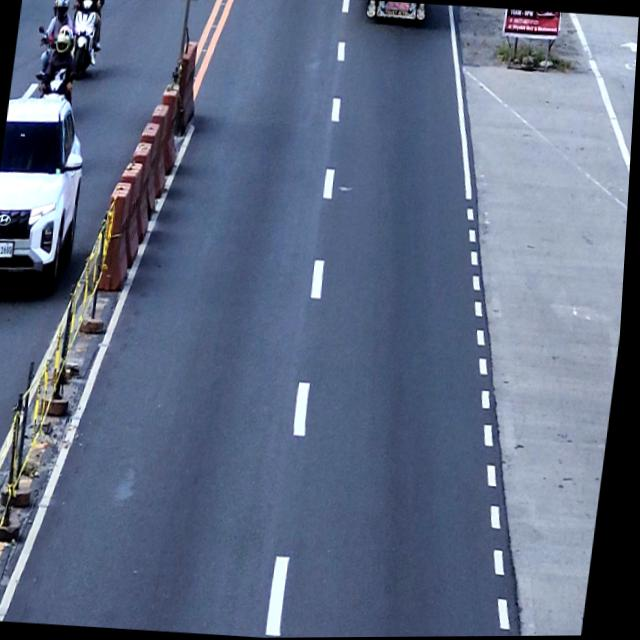Car: (0, 95, 94, 296)
License-Plate: (0, 240, 16, 258)
Motorcycle: (61, 0, 104, 80), (33, 63, 81, 105)
